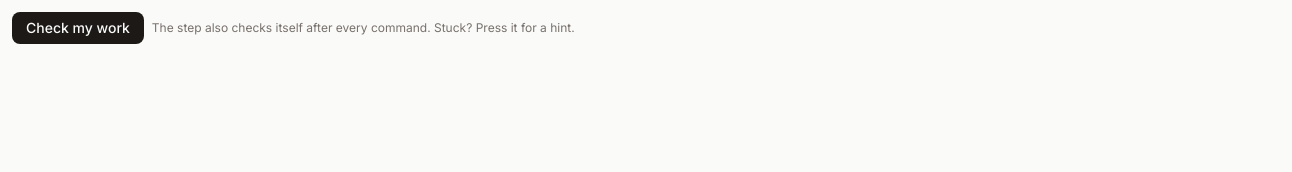
Test: ShellPanel Check my work › shows Checking… while grading, then the result
Later steps or results of the test are not shown.
Click the button "Check my work".
click(78, 28)  # box [12,12,144,44]
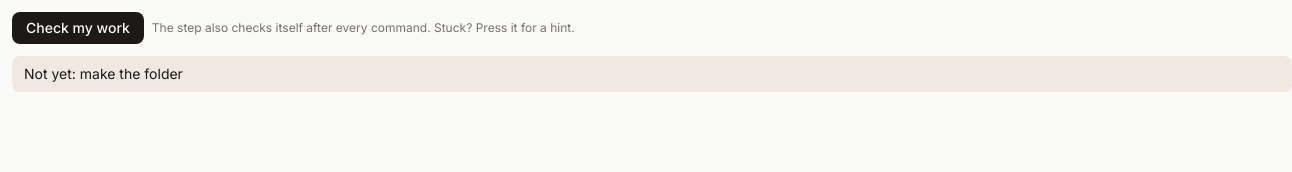
Result: the text "Not yet: make the folder" is shown at [12,56,1291,92]
